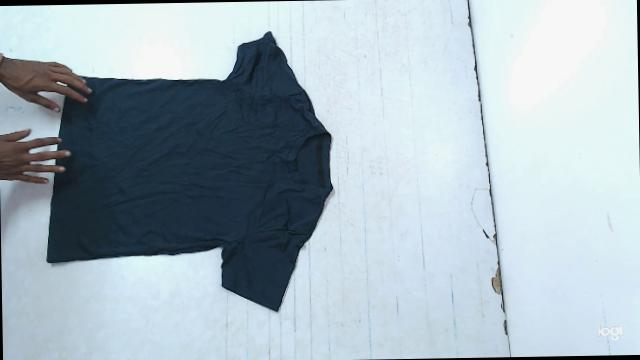new-garment: (47, 32, 332, 310)
